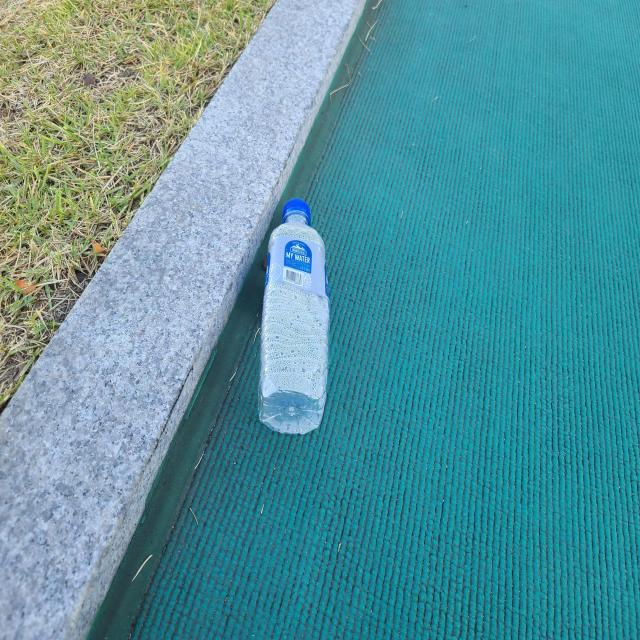plastic: (258, 198, 329, 434)
